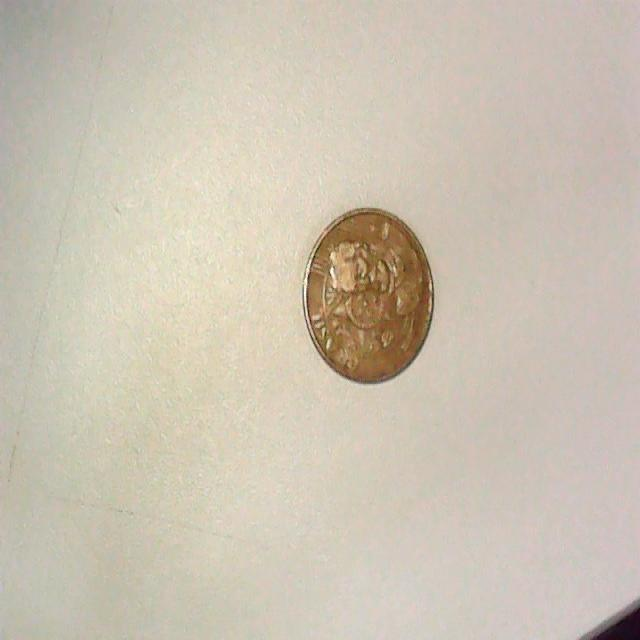25 cents: (301, 202, 440, 392)
